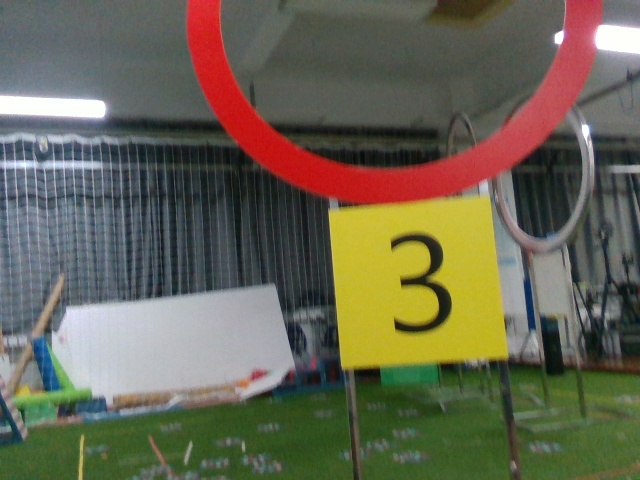target: (339, 204, 499, 357)
